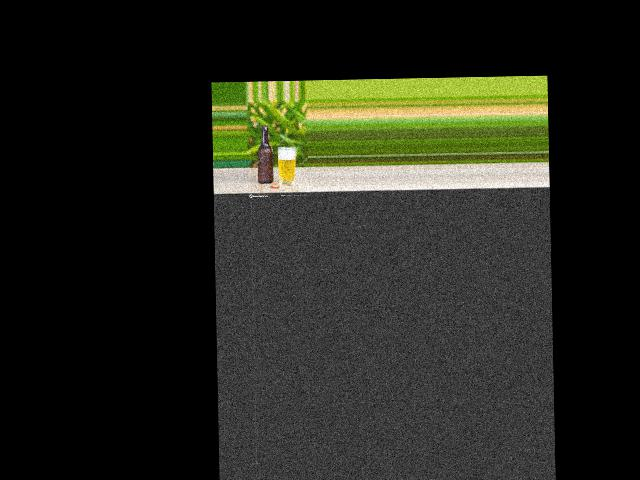beer: (257, 125, 273, 183)
